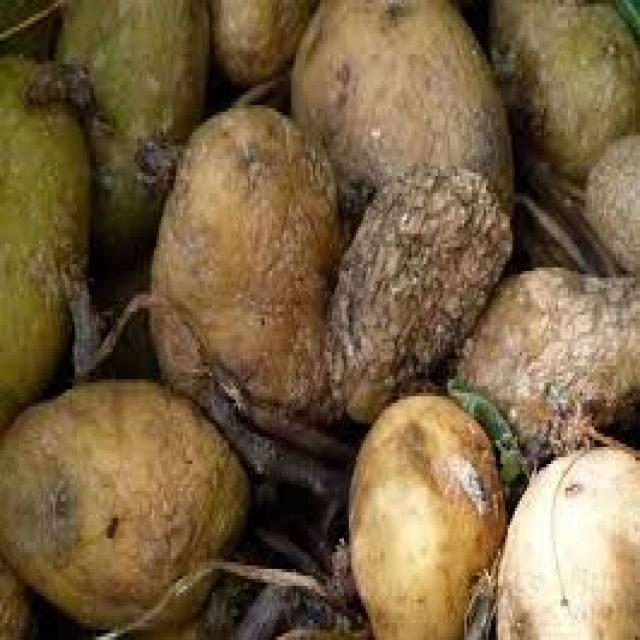organic waste: (0, 0, 638, 637), (144, 99, 337, 434), (0, 369, 250, 627), (284, 0, 512, 210), (324, 159, 508, 417), (48, 0, 209, 271), (344, 389, 505, 636), (450, 260, 638, 470), (168, 305, 352, 491), (0, 47, 89, 420), (496, 444, 638, 636), (486, 0, 637, 179), (508, 149, 626, 271), (82, 250, 156, 376), (207, 576, 349, 636), (207, 0, 308, 81), (246, 484, 342, 569), (445, 376, 522, 477), (584, 132, 638, 271), (0, 555, 34, 637), (0, 0, 53, 51), (325, 538, 358, 603)
